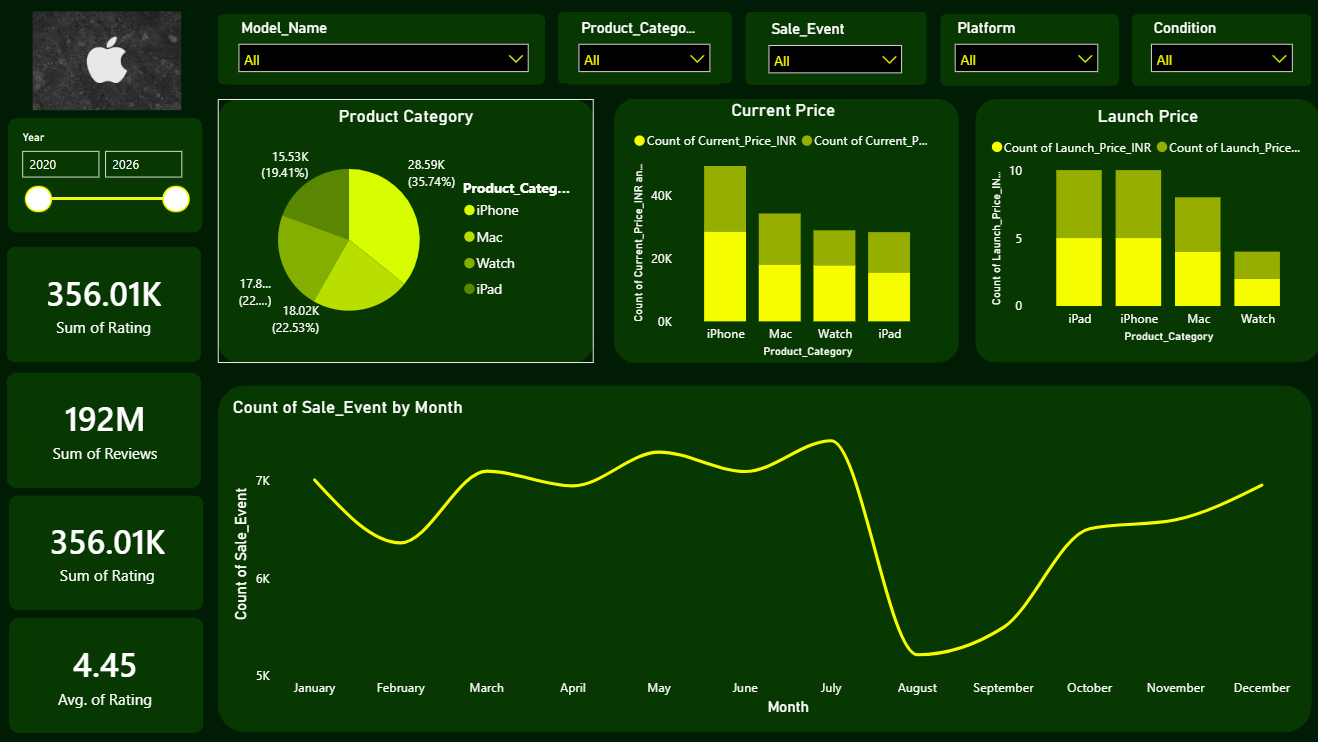

This screenshot's page, from the dashboard's own definition file:
{"tool":"powerbi","page":{"name":"Page 1","canvas":[1280,720],"ordinal":0},"visuals":[{"type":"image","box":[37.4,12.1,143.6,95.3],"z":0},{"type":"shape","box":[13.3,114.6,188.2,111],"z":500},{"type":"shape","box":[1097.7,13.9,173.9,69.6],"z":1000},{"type":"shape","box":[724.9,12.5,175.3,71],"z":2000},{"type":"shape","box":[215.7,372.9,1056,335.3],"z":3000},{"type":"shape","box":[912.7,13.9,172.5,69.6],"z":4000},{"type":"shape","box":[544,12.5,168.3,69.6],"z":5000},{"type":"shape","box":[215.7,13.9,315.8,68.2],"z":6000},{"type":"slicer","fields":{"Values":["apple_products_pricing_2020_2026.Product_Category"]},"box":[553.7,13.9,147.5,68.2],"z":7000},{"type":"slicer","fields":{"Values":["apple_products_pricing_2020_2026.Model_Name"]},"box":[225.4,13.9,300.5,68.2],"z":8000},{"type":"slicer","fields":{"Values":["apple_products_pricing_2020_2026.Sale_Event"]},"box":[737.1,15.7,149.6,67.6],"z":9000},{"type":"slicer","fields":{"Values":["apple_products_pricing_2020_2026.Condition"]},"box":[1106.3,14.5,156.8,67.6],"z":10000},{"type":"slicer","fields":{"Values":["apple_products_pricing_2020_2026.Platform"]},"box":[916.9,13.9,158.6,68.2],"z":11000},{"type":"shape","box":[12.1,238.9,188.2,112.2],"z":12000},{"type":"shape","box":[12.5,360.3,187.8,111.3],"z":13000},{"type":"shape","box":[13.9,478.6,187.8,111.3],"z":14000},{"type":"shape","box":[13.9,596.9,187.8,111.3],"z":15000},{"type":"shape","box":[215.7,96,363.1,254.6],"z":16000},{"type":"shape","box":[598.4,96.5,333,254.6],"z":17000},{"type":"shape","box":[947.5,96,332.5,254.6],"z":18000},{"type":"cardVisual","fields":{"Data":["Sum(apple_products_pricing_2020_2026.Rating)"]},"box":[20.9,246.3,171.1,96],"z":19000},{"type":"cardVisual","fields":{"Data":["Sum(apple_products_pricing_2020_2026.Reviews_Count)"]},"box":[22.3,367.3,171.1,97.4],"z":20000},{"type":"cardVisual","fields":{"Data":["Sum(apple_products_pricing_2020_2026.Rating)"]},"box":[23.7,485.6,171.1,97.4],"z":21000},{"type":"cardVisual","fields":{"Data":["Avg(apple_products_pricing_2020_2026.Rating)"]},"box":[22.3,596.9,171.1,111.3],"z":22000},{"type":"pieChart","title":" Product Category ","fields":{"Category":["apple_products_pricing_2020_2026.Product_Category"],"Y":["CountNonNull(apple_products_pricing_2020_2026.Product_Category)"]},"box":[228.2,103,339.5,239.3],"z":23000},{"type":"lineChart","fields":{"Category":["apple_products_pricing_2020_2026.Date.Variation.Date Hierarchy.Month"],"Y":["CountNonNull(apple_products_pricing_2020_2026.Sale_Event)"]},"box":[225.4,384,1036.5,313],"z":24000},{"type":"lineStackedColumnComboChart","title":"Current Price","fields":{"Category":["apple_products_pricing_2020_2026.Product_Category"],"Y":["Count(apple_products_pricing_2020_2026.Current_Price_INR)","Count(apple_products_pricing_2020_2026.Current_Price_USD)"]},"box":[612.2,96,300.5,254.6],"z":25000},{"type":"lineStackedColumnComboChart","title":"Launch Price ","fields":{"Category":["apple_products_pricing_2020_2026.Product_Category"],"Y":["Count(apple_products_pricing_2020_2026.Launch_Price_INR)","Count(apple_products_pricing_2020_2026.Launch_Price_USD)"]},"box":[957.2,103,314.4,233.7],"z":26000},{"type":"slicer","fields":{"Values":["apple_products_pricing_2020_2026.Date.Variation.Date Hierarchy.Year"]},"box":[13.9,122.4,182.3,94.6],"z":27000}]}

Visuals, with their boxes in screenshot pixels (x1, y1, x2, y2), scaled from the page's 1280x720 canvas onto the 1318x742 screenshot:
image: rect(39, 12, 186, 111)
shape: rect(14, 118, 207, 232)
shape: rect(1130, 14, 1309, 86)
shape: rect(746, 13, 927, 86)
shape: rect(222, 384, 1309, 730)
shape: rect(940, 14, 1117, 86)
shape: rect(560, 13, 733, 85)
shape: rect(222, 14, 547, 85)
slicer - apple_products_pricing_2020_2026.Product_Category: rect(570, 14, 722, 85)
slicer - apple_products_pricing_2020_2026.Model_Name: rect(232, 14, 542, 85)
slicer - apple_products_pricing_2020_2026.Sale_Event: rect(759, 16, 913, 86)
slicer - apple_products_pricing_2020_2026.Condition: rect(1139, 15, 1301, 85)
slicer - apple_products_pricing_2020_2026.Platform: rect(944, 14, 1107, 85)
shape: rect(12, 246, 206, 362)
shape: rect(13, 371, 206, 486)
shape: rect(14, 493, 208, 608)
shape: rect(14, 615, 208, 730)
shape: rect(222, 99, 596, 361)
shape: rect(616, 99, 959, 362)
shape: rect(976, 99, 1317, 361)
cardVisual - Sum(apple_products_pricing_2020_2026.Rating): rect(22, 254, 198, 353)
cardVisual - Sum(apple_products_pricing_2020_2026.Reviews_Count): rect(23, 379, 199, 479)
cardVisual - Sum(apple_products_pricing_2020_2026.Rating): rect(24, 500, 201, 601)
cardVisual - Avg(apple_products_pricing_2020_2026.Rating): rect(23, 615, 199, 730)
" Product Category " pieChart: rect(235, 106, 585, 353)
lineChart - apple_products_pricing_2020_2026.Date.Variation.Date Hierarchy.Month x CountNonNull(apple_products_pricing_2020_2026.Sale_Event): rect(232, 396, 1299, 718)
"Current Price" lineStackedColumnComboChart: rect(630, 99, 940, 361)
"Launch Price " lineStackedColumnComboChart: rect(986, 106, 1309, 347)
slicer - apple_products_pricing_2020_2026.Date.Variation.Date Hierarchy.Year: rect(14, 126, 202, 224)
